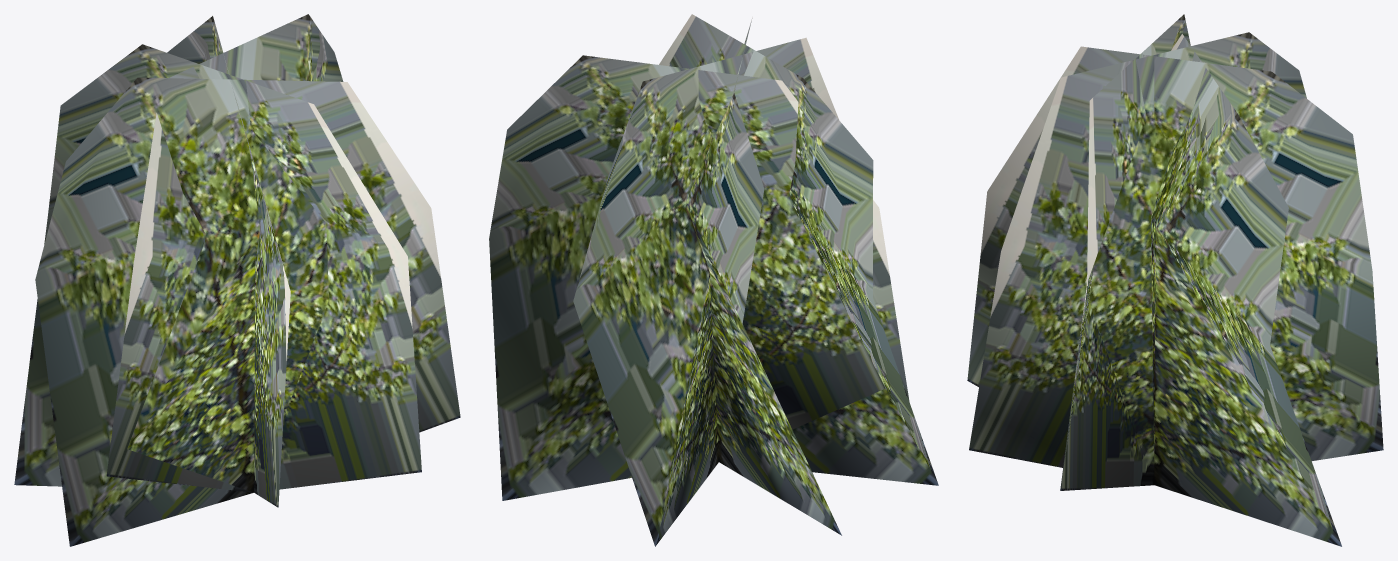
File: kust_1.fbx
3 renders of one model, left to right at view 1: azimuth 30°, elevation 25°; view 2: azimuth 150°, elevation 25°; view 3: azimuth 270°, elevation 25°, orthographic. The views are drawn at different scales.
Visible parts, largest first — view 1: Detal328; view 2: Detal328; view 3: Detal328.
Part boxes in pixels (x1,y1,x2,y2): Detal328: (14,14,460,546); Detal328: (489,14,938,546); Detal328: (967,14,1383,546).
Bounding box in the file's own units: 1569 × 1690 × 1505.
